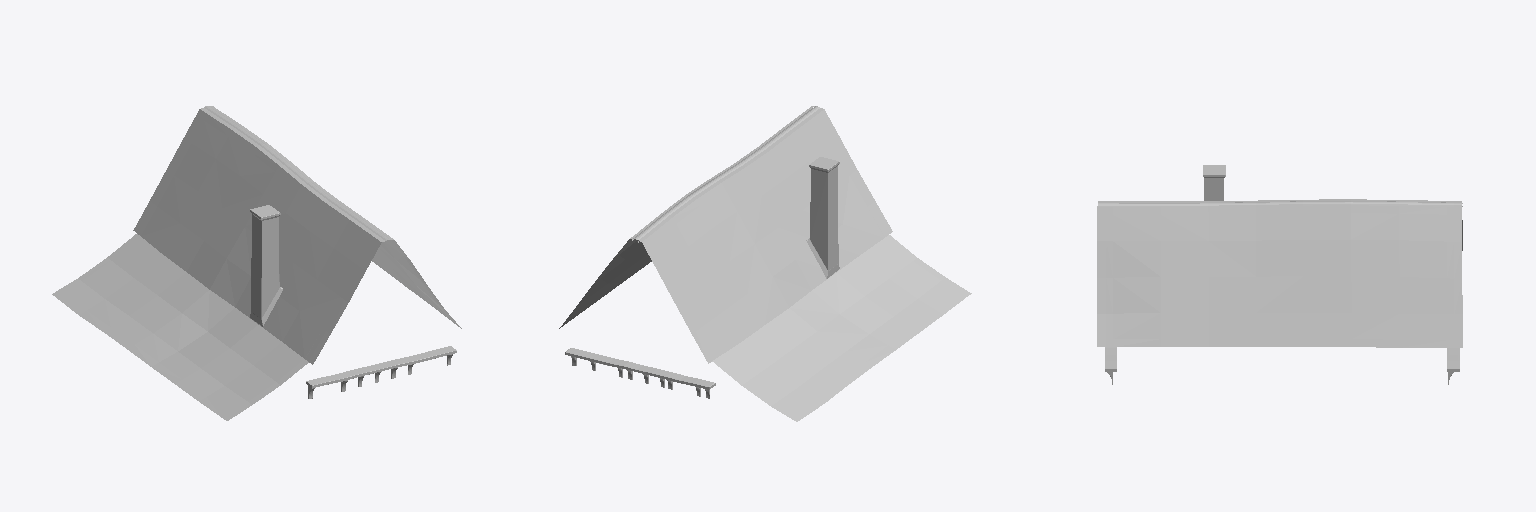
Rendered from roof.obj.
3 views of the same model, side by side, from view 1: azimuth 30°, elevation 25°; view 2: azimuth 150°, elevation 25°; view 3: azimuth 270°, elevation 25° (orthographic).
Parts seen in each view (by area): view 1: house01_roof; view 2: house01_roof; view 3: house01_roof.
Boxes of the visible parts, box(x1,y1,x2,y2) form: house01_roof: box(52, 106, 461, 420); house01_roof: box(559, 106, 971, 421); house01_roof: box(1097, 165, 1462, 384).
Bounding box in the file's own units: 14.16 × 8.65 × 19.08.